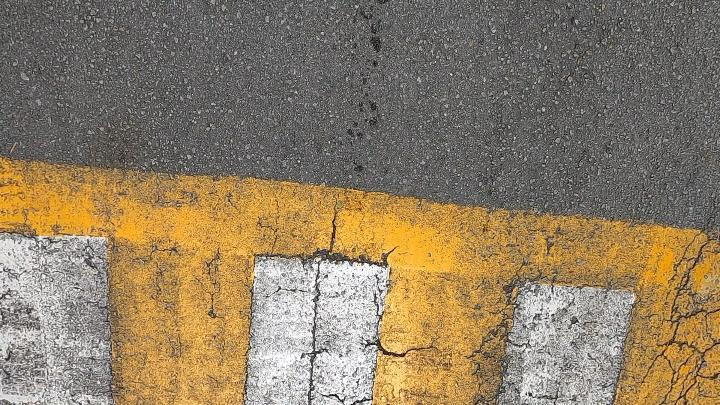Lane: (0, 158, 719, 404), (1, 159, 720, 405)
